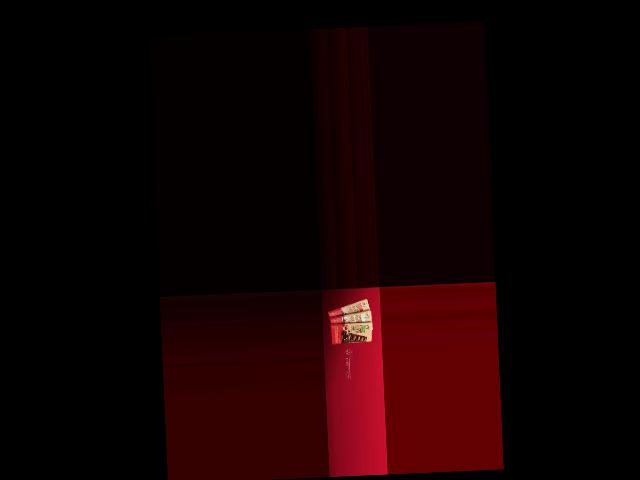chocolate: (325, 298, 372, 321)
